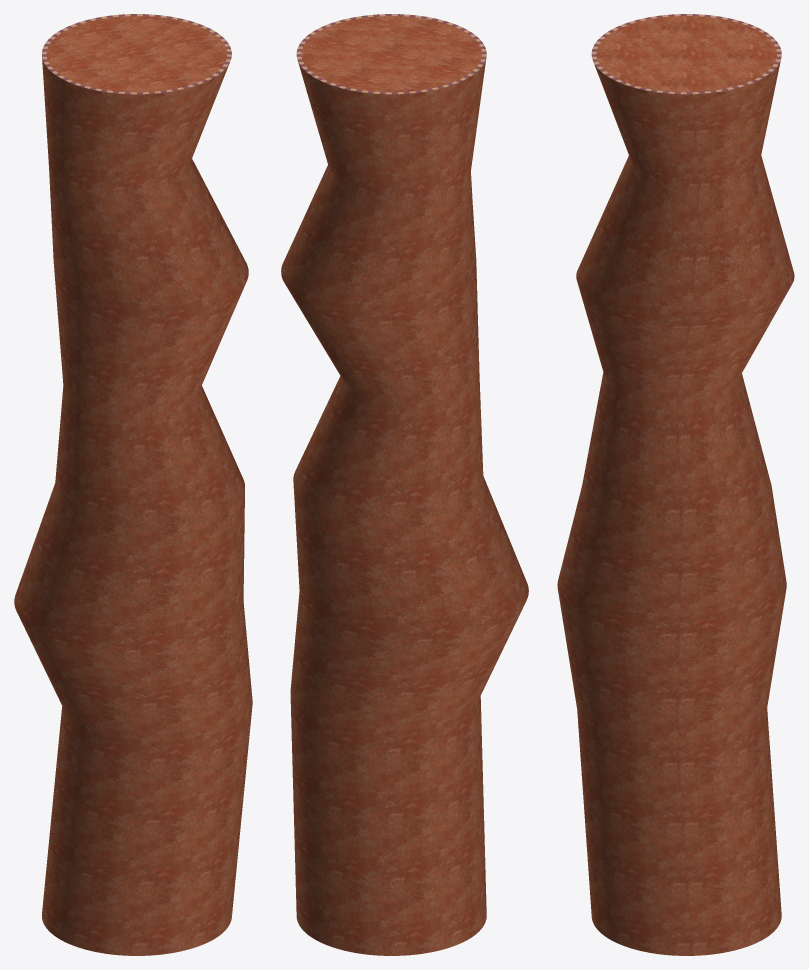
The model's file is SM_MainPlatform2.fbx.
3 views of the same model, side by side, from view 1: azimuth 30°, elevation 25°; view 2: azimuth 150°, elevation 25°; view 3: azimuth 270°, elevation 25° (orthographic).
Parts seen in each view (by area): view 1: MainPlatform; view 2: MainPlatform; view 3: MainPlatform.
Part boxes in pixels (bbox=[...]): MainPlatform: bbox=[14, 14, 252, 955]; MainPlatform: bbox=[281, 14, 528, 955]; MainPlatform: bbox=[557, 14, 794, 955].
Bounding box in the file's own units: 2555 × 10000 × 2494.
2 materials, 2 textured.
